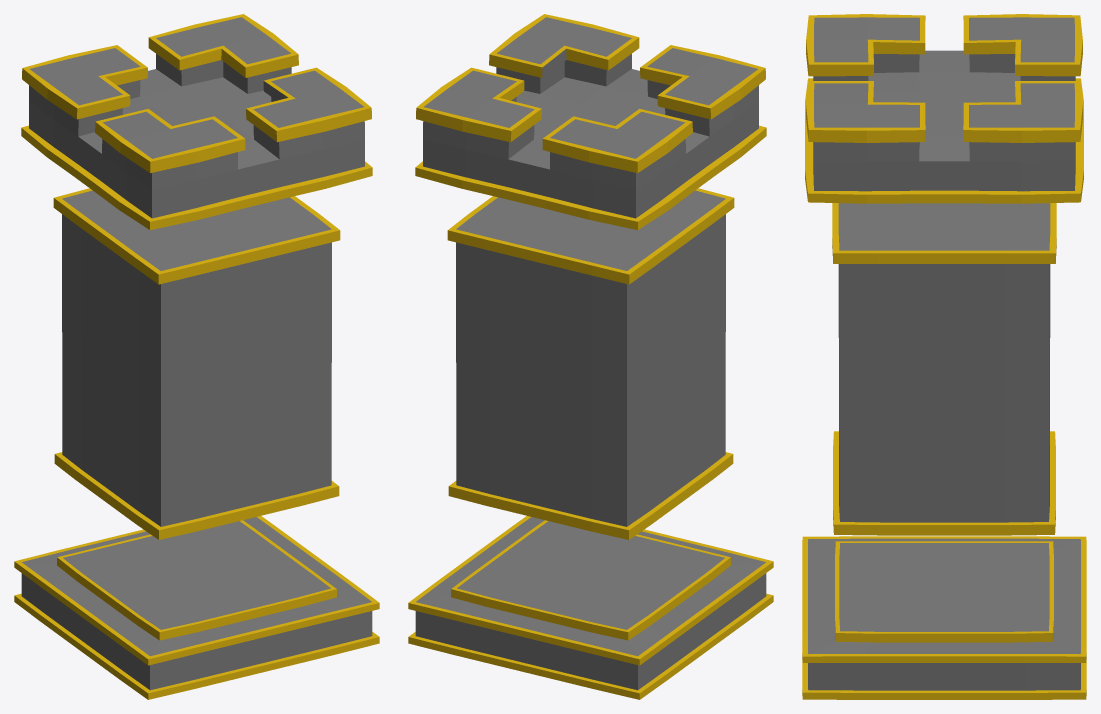
Rendered from BaseTower Health upgrade 2.fbx.
3 renders of one model, left to right at view 1: azimuth 30°, elevation 25°; view 2: azimuth 150°, elevation 25°; view 3: azimuth 270°, elevation 25°, orthographic. The views are drawn at different scales.
Visible parts, largest first — view 1: TowerBase 2nd upgrade armour; view 2: TowerBase 2nd upgrade armour; view 3: TowerBase 2nd upgrade armour.
Boxes of the visible parts, x1=… form: TowerBase 2nd upgrade armour: x1=14, y1=14, x2=379, y2=699; TowerBase 2nd upgrade armour: x1=408, y1=14, x2=773, y2=699; TowerBase 2nd upgrade armour: x1=802, y1=14, x2=1086, y2=699.
Size of the model in its own units: 52.26 by 115 by 52.35.
